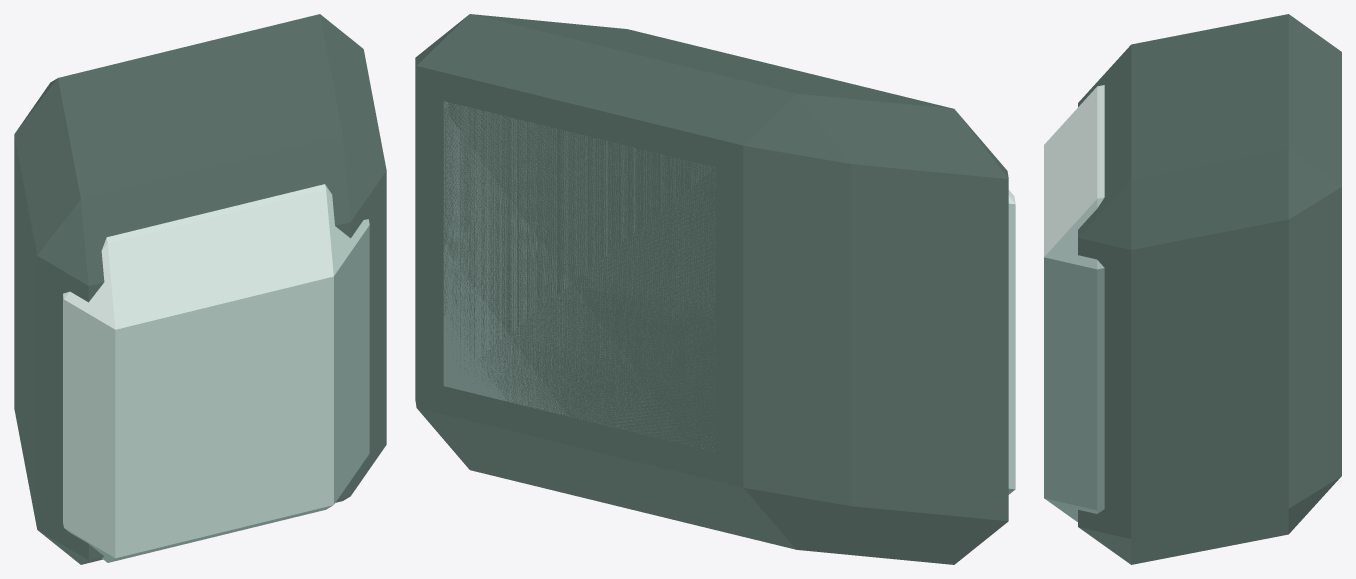
File: Terrain_Block1x1.gltf
3 views of the same model, side by side, from view 1: azimuth 30°, elevation 25°; view 2: azimuth 150°, elevation 25°; view 3: azimuth 270°, elevation 25° (orthographic). The views are drawn at different scales.
Parts seen in each view (by area): view 1: Terrain_Block1x1_baked; view 2: Terrain_Block1x1_baked; view 3: Terrain_Block1x1_baked.
Boxes of the visible parts, x1,y1,x2,y2 form: Terrain_Block1x1_baked: (14, 14, 386, 564); Terrain_Block1x1_baked: (415, 14, 1015, 564); Terrain_Block1x1_baked: (1044, 14, 1341, 564).
Bounding box in the file's own units: 1.15 × 1.15 × 0.7.
